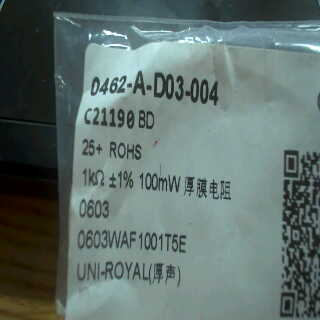1kR: (80, 165, 110, 190)
